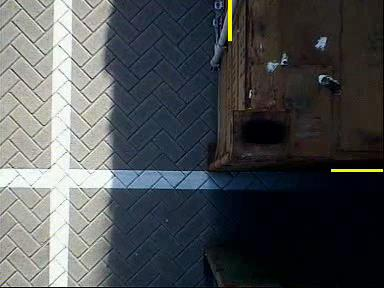groundmarker_2: (95, 124, 223, 188)
